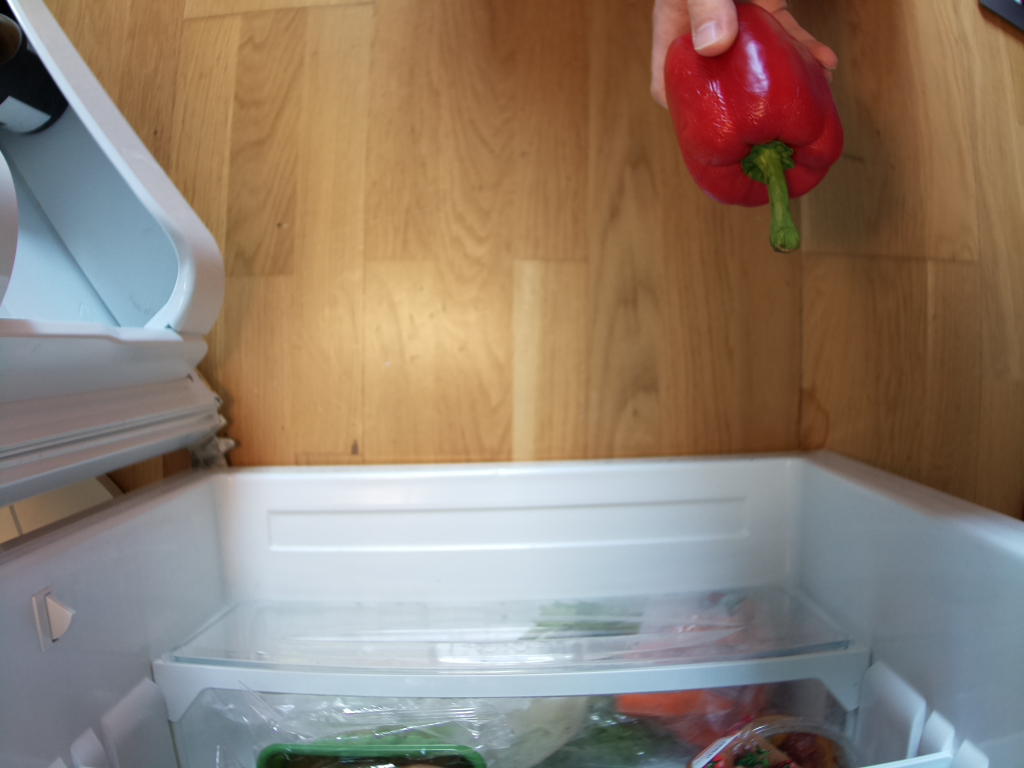pepper-bad: (657, 1, 850, 263)
